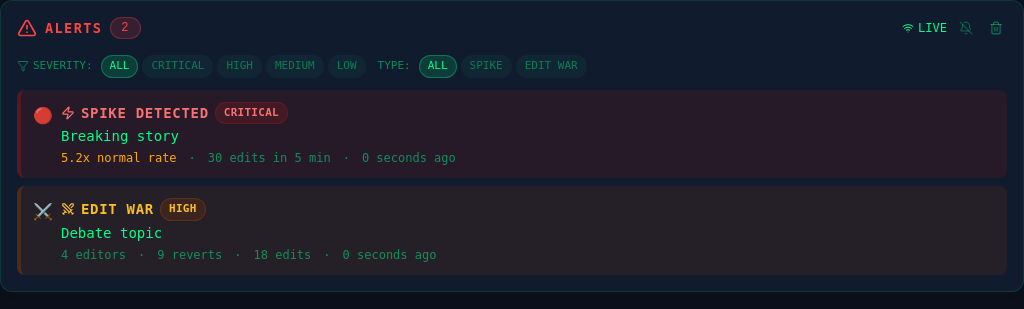
Test: AlertsPanel › filters by severity
Expected: the link "Breaking story" is shown, [61, 128, 179, 144]
// Filter to high only — should hide critical spike
Click the button "HIGH". click: [240, 66]
box: [218, 55, 262, 78]
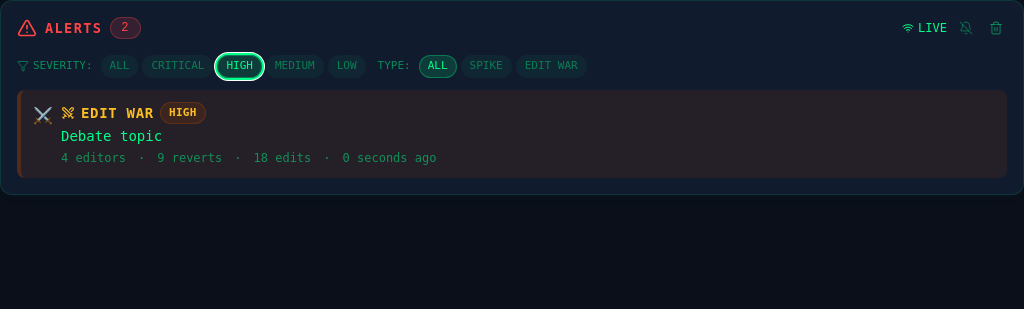
Expected: the link "Debate topic" is shown, [61, 128, 162, 144]
Result: the link "Breaking story" is gone
